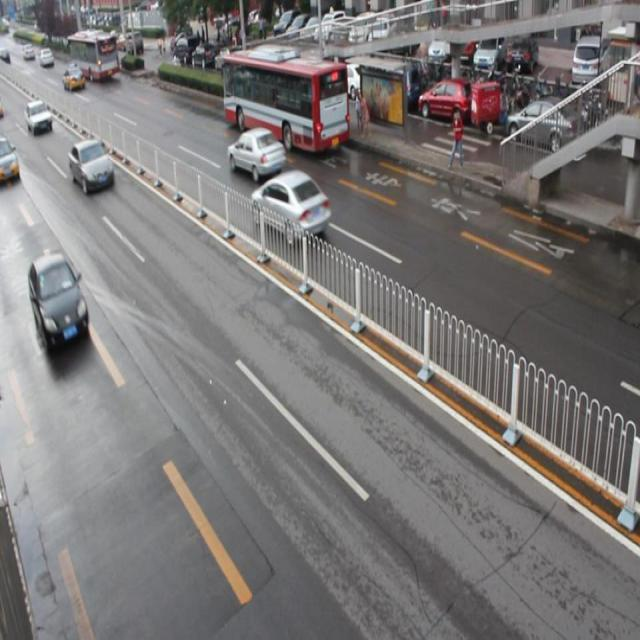car: (28, 250, 89, 351), (250, 168, 329, 244), (226, 126, 285, 180), (68, 138, 115, 195)
van: (223, 51, 348, 150)
